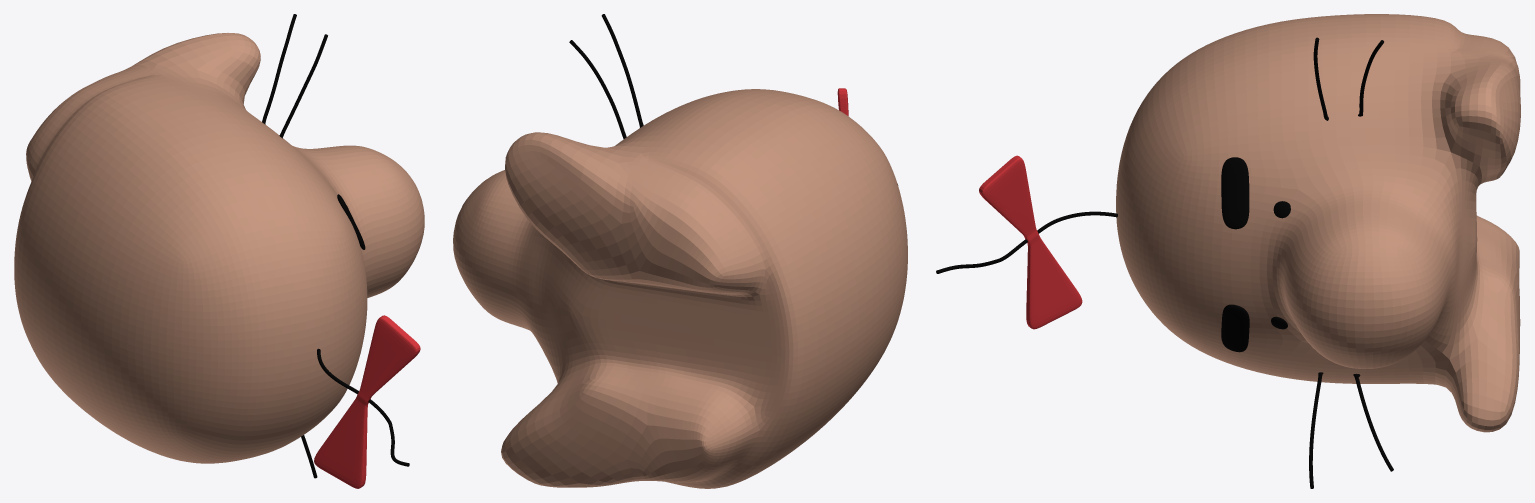
The model's file is Mr-Saturn.glb.
3 renders of one model, left to right at view 1: azimuth 30°, elevation 25°; view 2: azimuth 150°, elevation 25°; view 3: azimuth 270°, elevation 25°, orthographic. The views are drawn at different scales.
Parts seen in each view (by area): view 1: MrStaurn_Body, MrSaturn_Bow, MrSaturn_Hair, MrSaturn_Whisker_Bottom_Left, MrSaturn_Whisker_Top_Left; view 2: MrStaurn_Body, MrSaturn_Whisker_Top_Left, MrSaturn_Whisker_Bottom_Left; view 3: MrStaurn_Body, MrSaturn_Bow, MrSaturn_EyeBrow_Left, MrSaturn_EyeBrow_Right, MrSaturn_Hair.
Part boxes in pixels (x1,y1,x2,y2): MrStaurn_Body: (14, 33, 424, 463); MrSaturn_Bow: (314, 315, 420, 488); MrSaturn_Hair: (317, 348, 409, 466); MrSaturn_Whisker_Bottom_Left: (262, 14, 296, 124); MrSaturn_Whisker_Top_Left: (279, 34, 327, 138); MrStaurn_Body: (453, 89, 907, 488); MrSaturn_Whisker_Top_Left: (601, 14, 643, 127); MrSaturn_Whisker_Bottom_Left: (569, 40, 626, 138); MrStaurn_Body: (1116, 14, 1520, 432); MrSaturn_Bow: (979, 155, 1082, 329); MrSaturn_EyeBrow_Left: (1221, 157, 1249, 229); MrSaturn_EyeBrow_Right: (1221, 304, 1249, 352); MrSaturn_Hair: (936, 211, 1117, 273).
Size of the model in its own units: 1.19 by 1.34 by 1.56.
